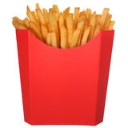frenchfries: (13, 2, 115, 43)
